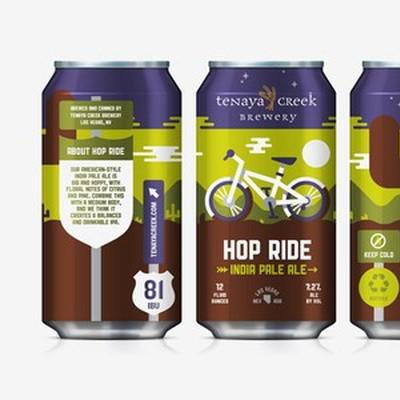beer: (41, 56, 188, 340)
